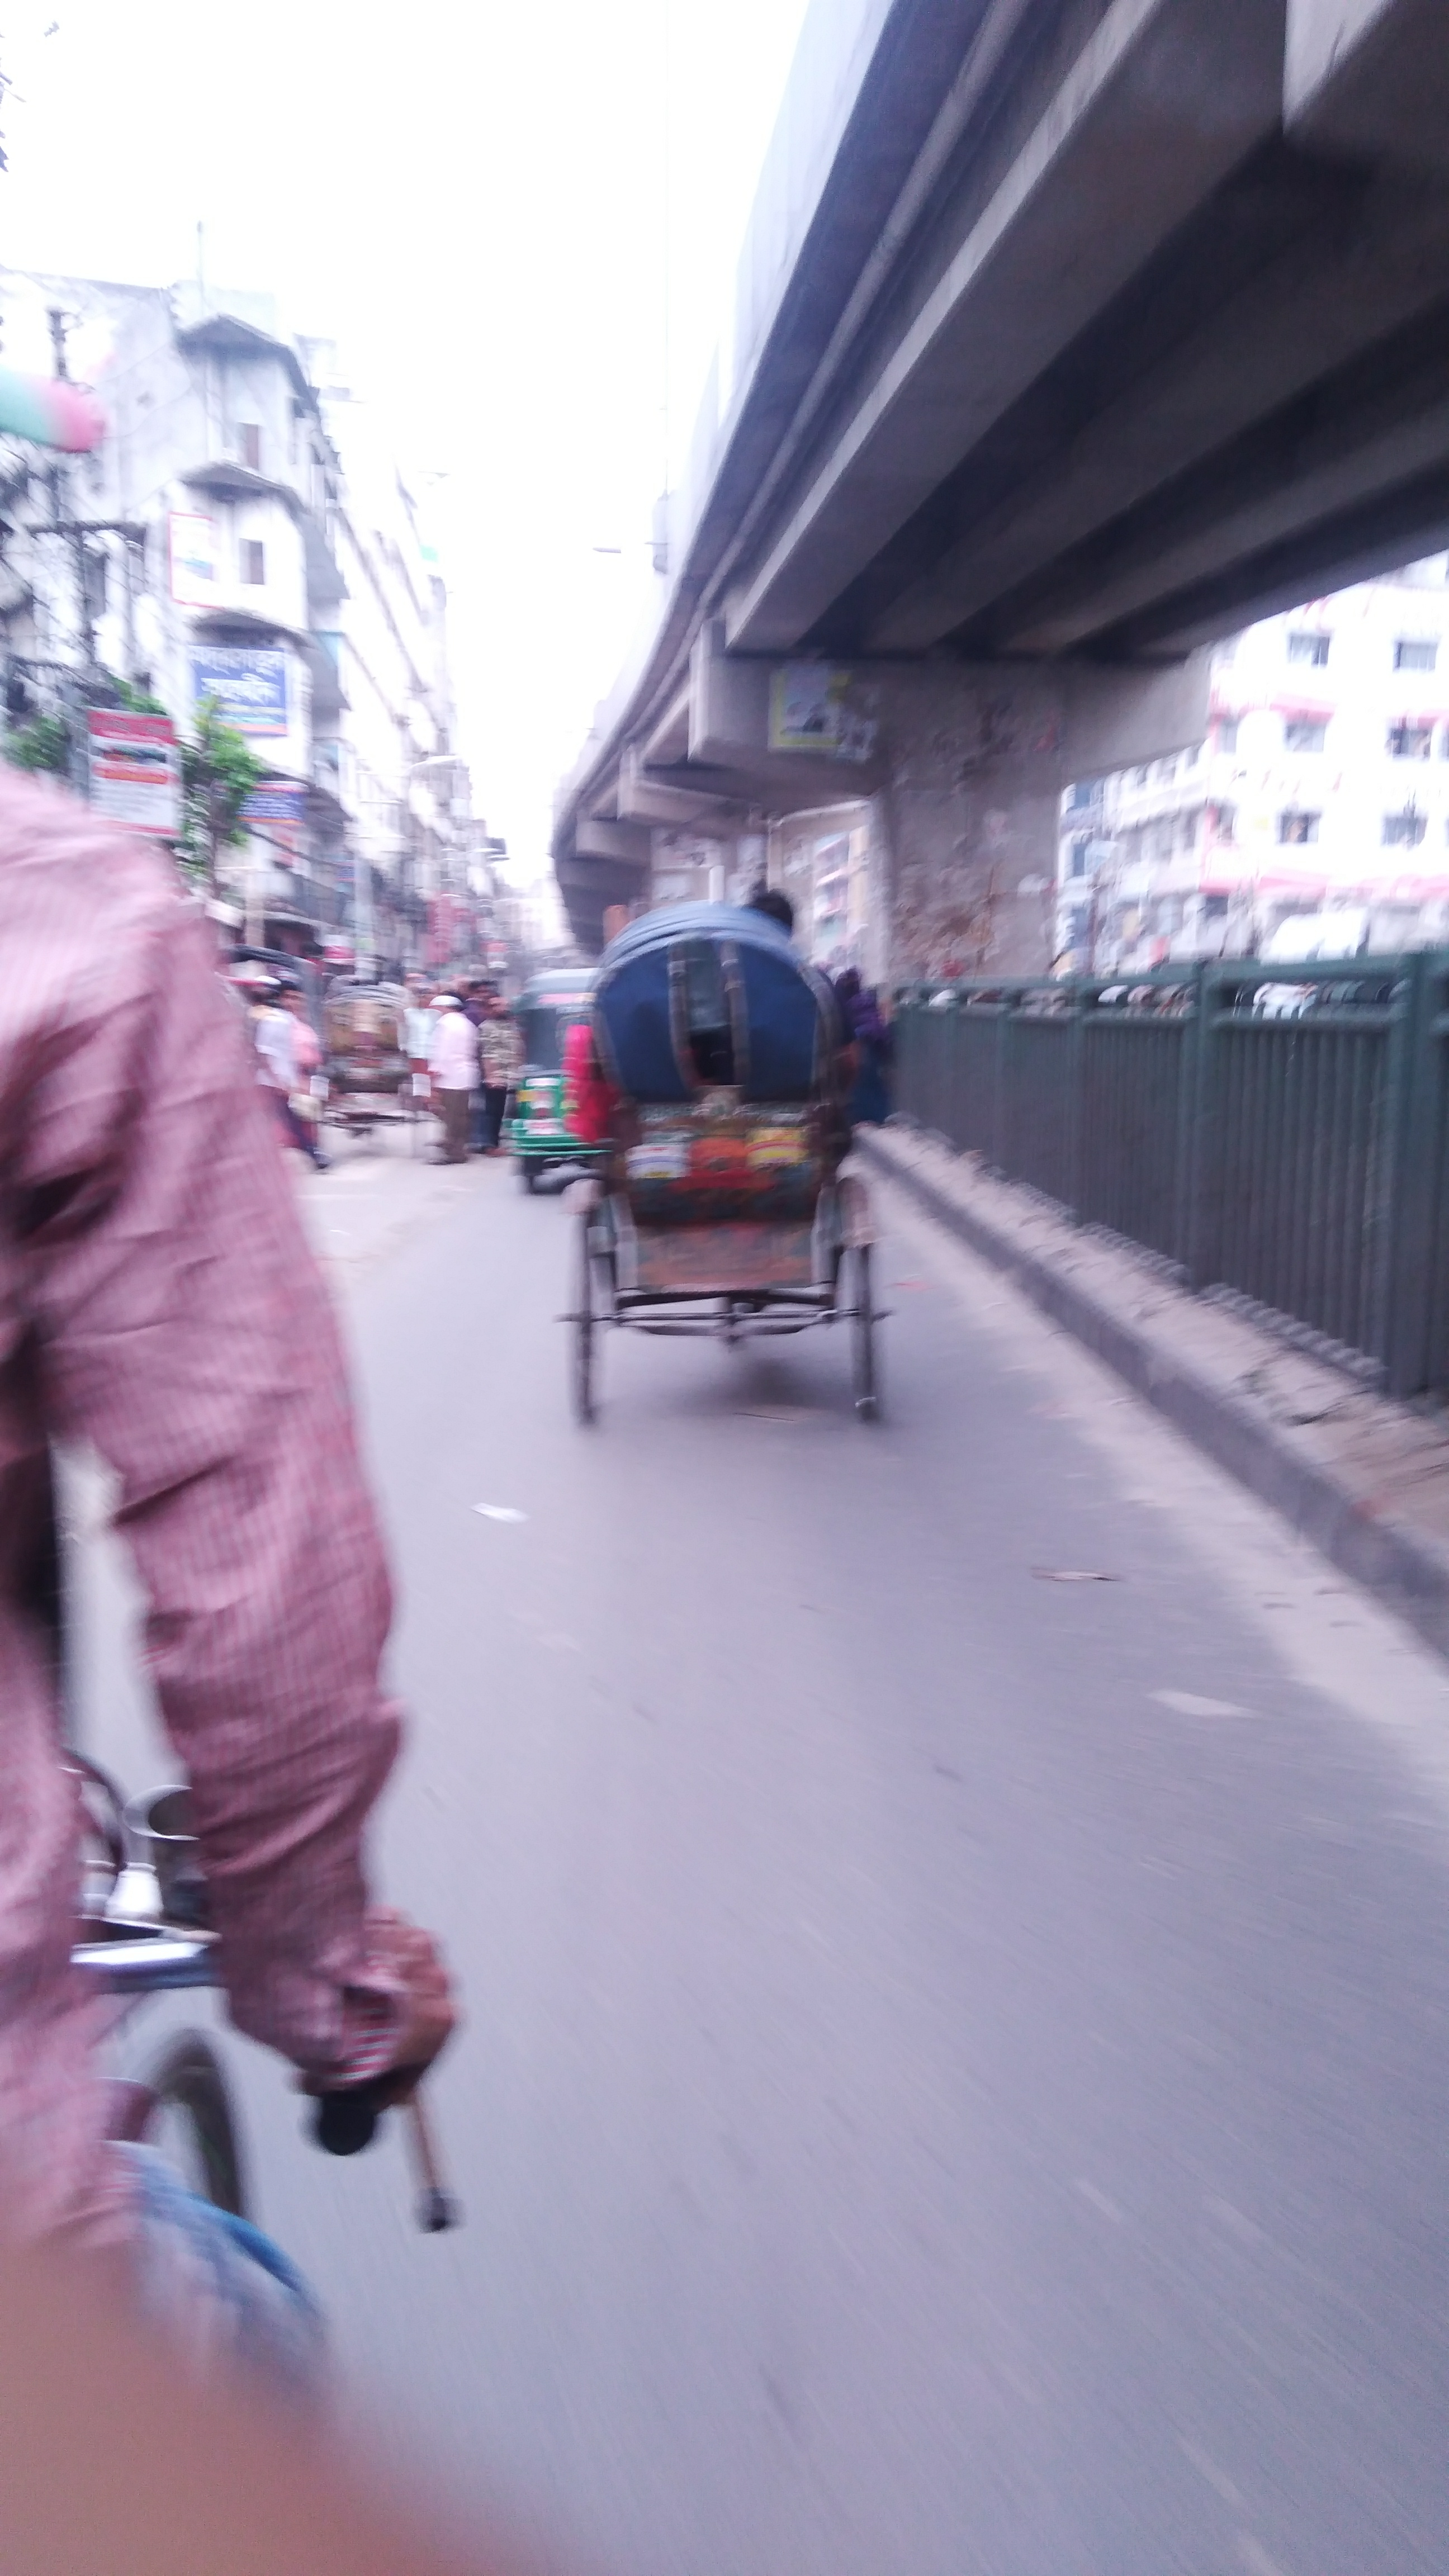Rickshaw: (586, 876, 908, 1415)
